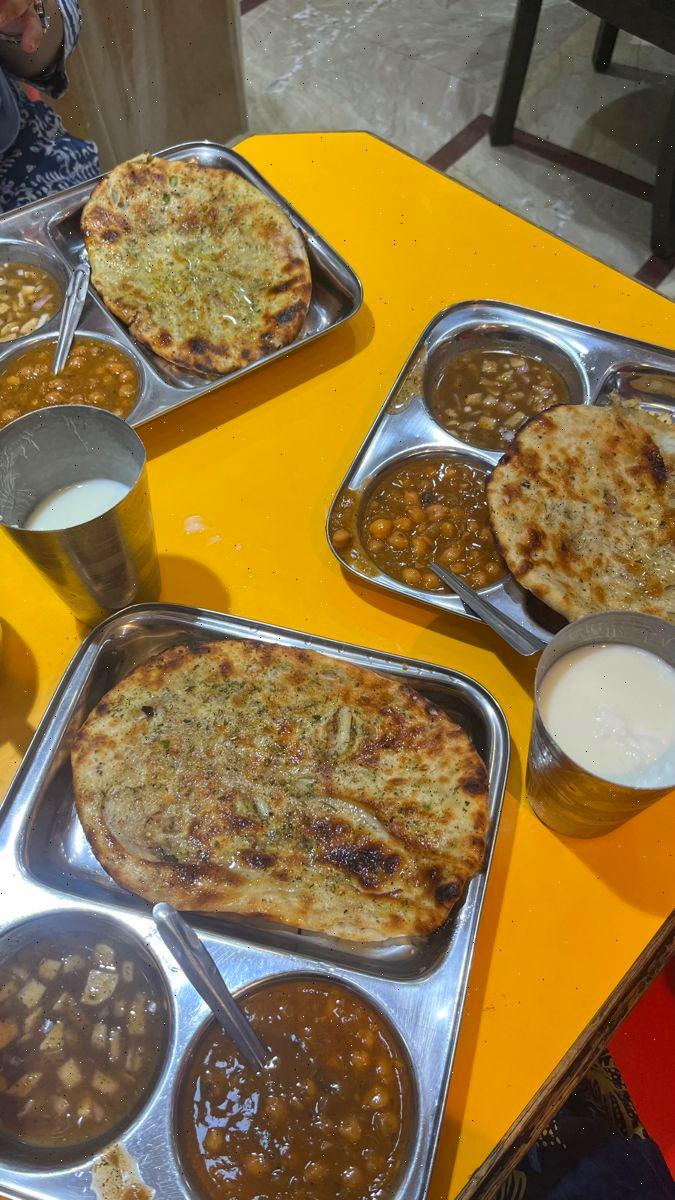chole: (207, 978, 407, 1193), (350, 418, 533, 591), (5, 328, 133, 403)
